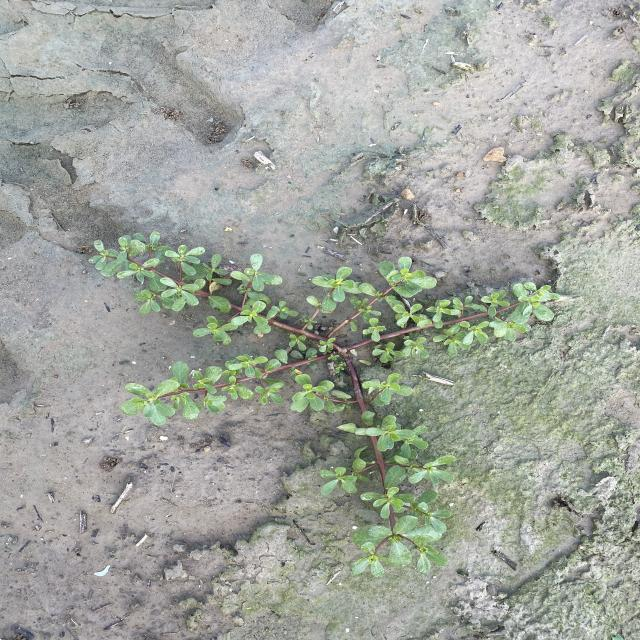Purslane: (86, 230, 562, 578)
